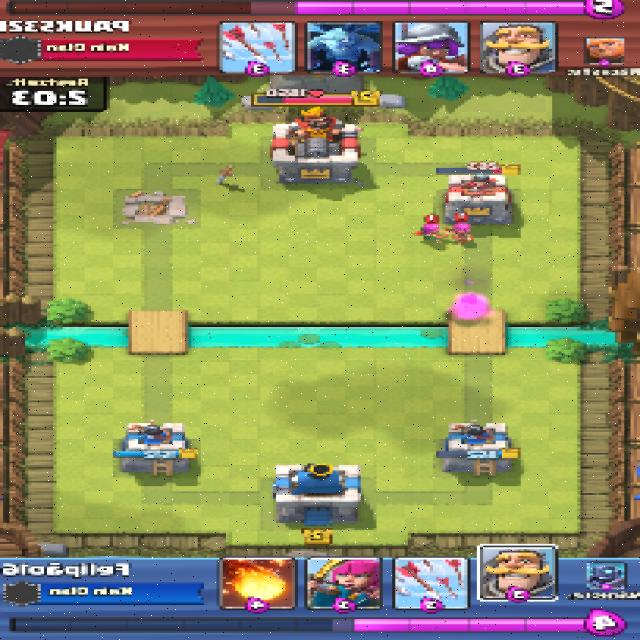Enemy-Archer: (445, 223, 482, 246), (413, 223, 444, 246)
